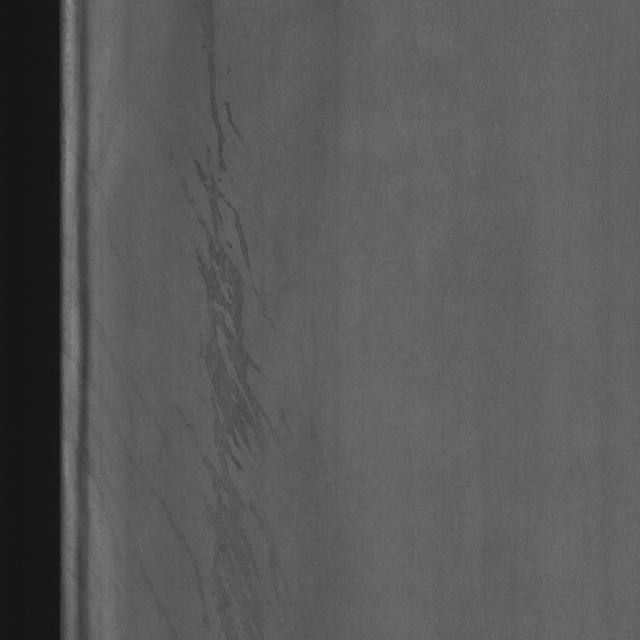water_spot: (182, 20, 298, 639)
